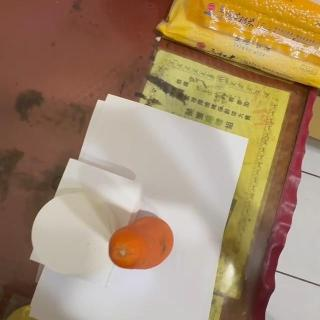carrot: (110, 214, 174, 270)
